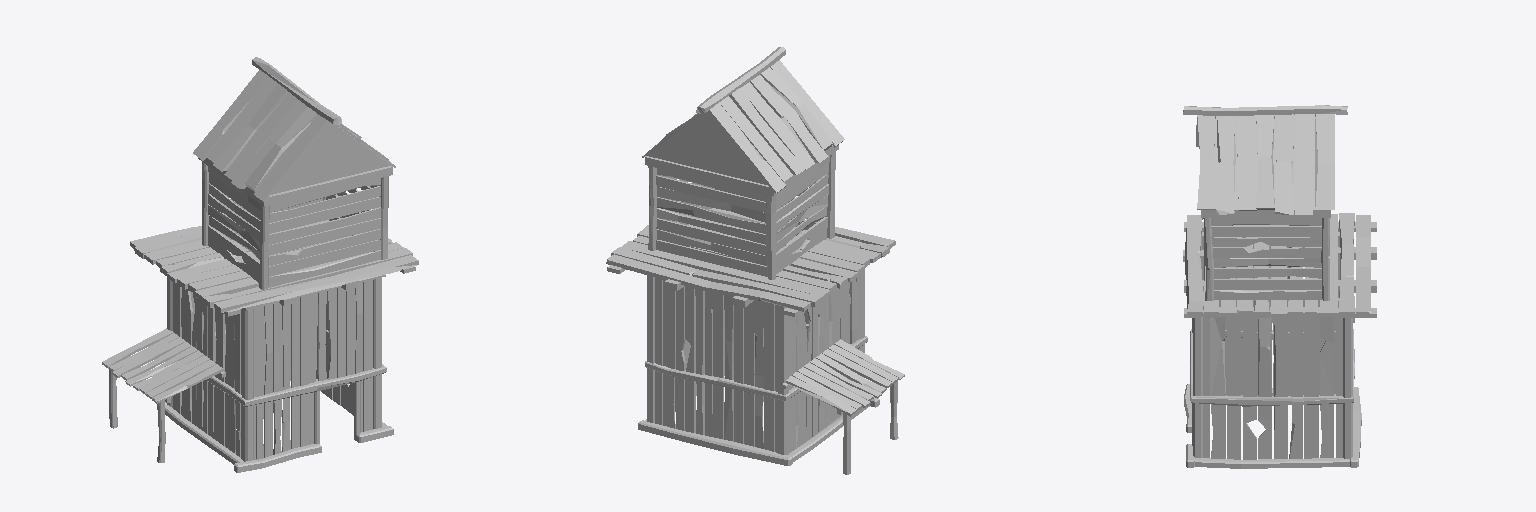
The model's file is Windmill.obj.
3 views of the same model, side by side, from view 1: azimuth 30°, elevation 25°; view 2: azimuth 150°, elevation 25°; view 3: azimuth 270°, elevation 25° (orthographic).
Parts seen in each view (by area): view 1: Windmill; view 2: Windmill; view 3: Windmill.
Boxes of the visible parts, x1,y1,x2,y2 form: Windmill: [102, 57, 418, 472]; Windmill: [606, 47, 904, 474]; Windmill: [1183, 105, 1376, 468].
Bounding box in the file's own units: 9.25 × 12.23 × 6.46.